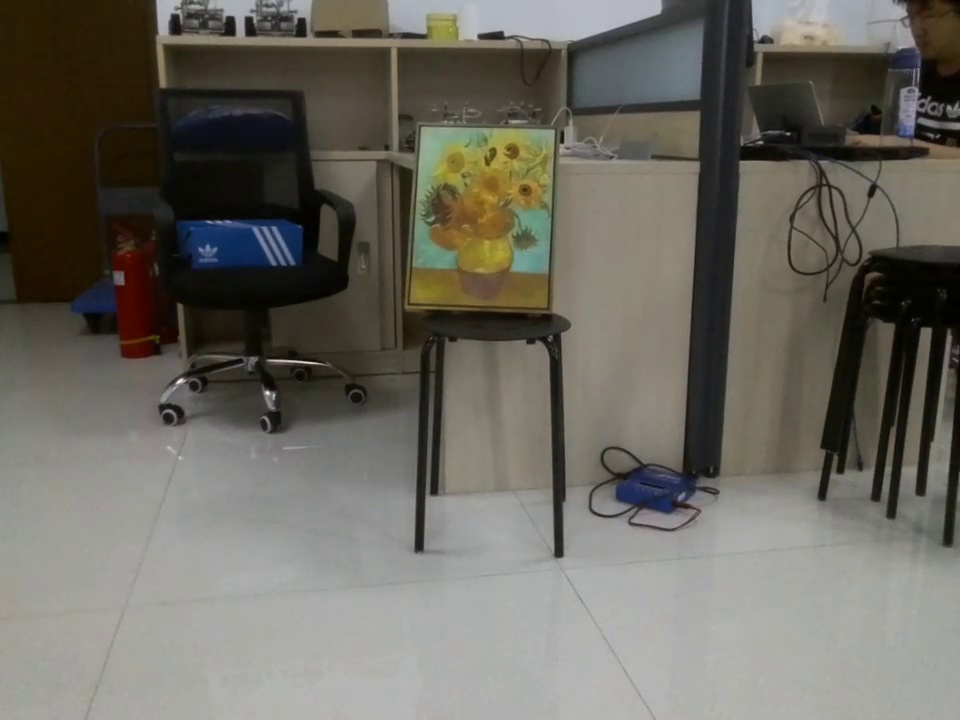painting: (408, 123, 561, 315)
